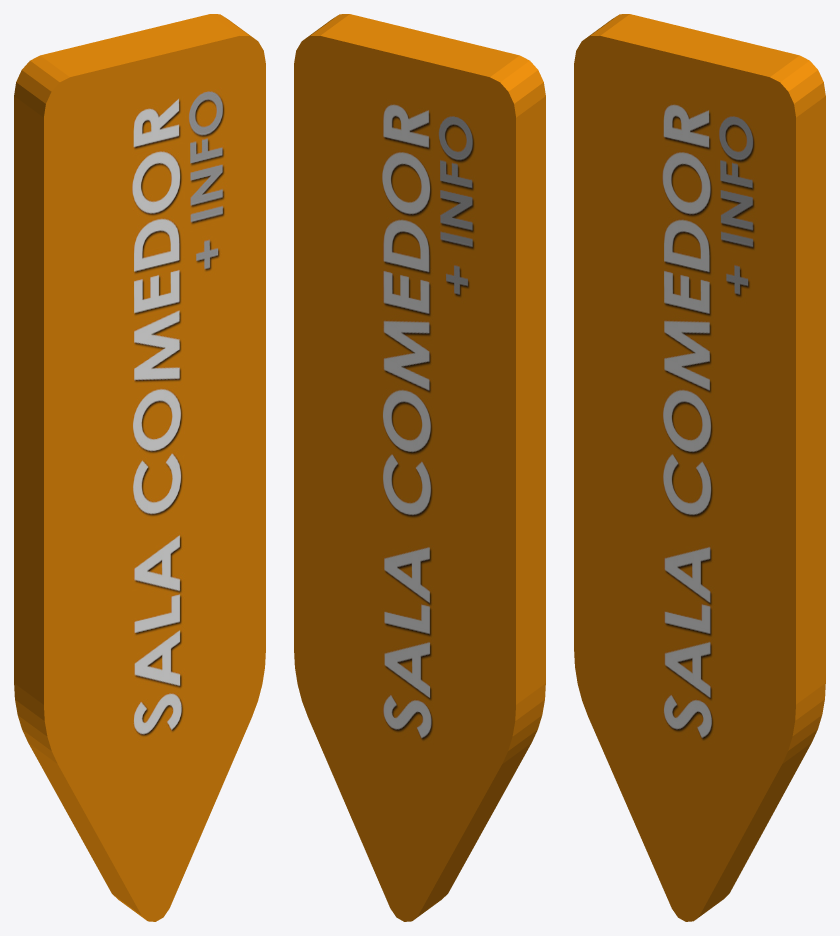
File: Señal.FBX
The picture shows the model from 3 angles, left to right: view 1: azimuth 30°, elevation 25°; view 2: azimuth 150°, elevation 25°; view 3: azimuth 330°, elevation 25°; orthographic projection.
Visible parts, largest first — view 1: Letrero; view 2: Letrero; view 3: Letrero.
Boxes of the visible parts, <box> form: Letrero: <box>14,14,265,921</box>; Letrero: <box>294,14,545,921</box>; Letrero: <box>574,14,825,921</box>.
Bounding box in the file's own units: 887 × 3304 × 206.
1 material, 1 textured.
